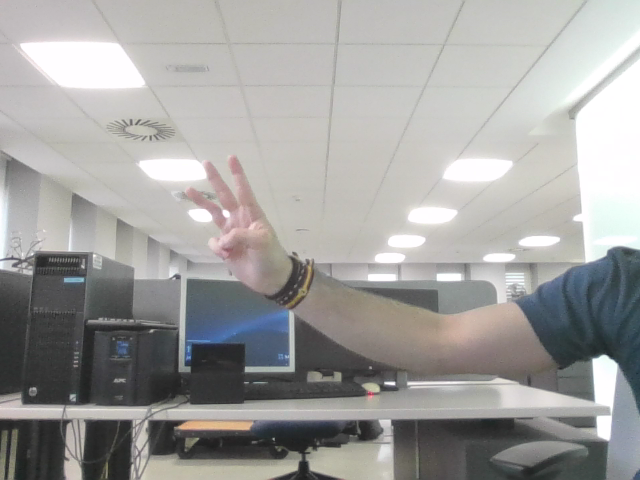3Dedos: (193, 165, 266, 253)
